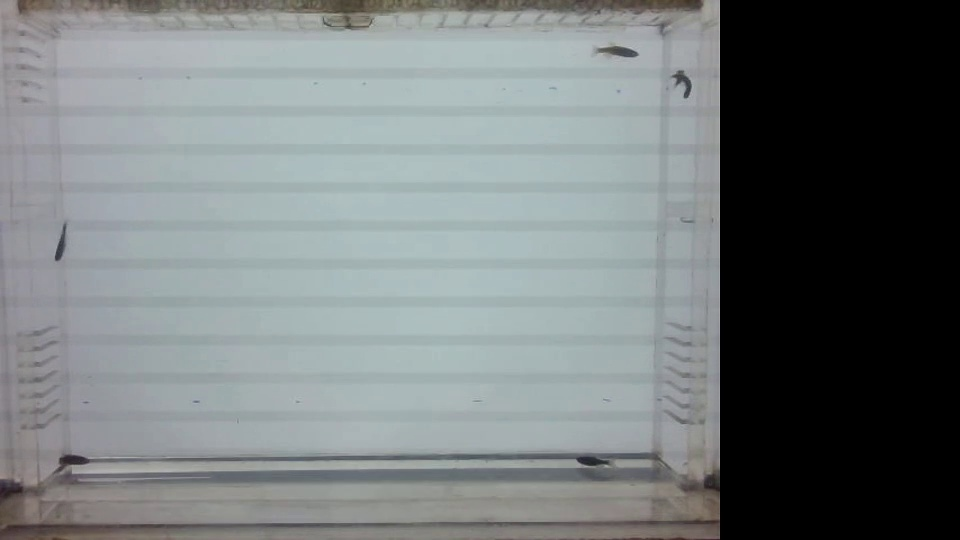fish: (589, 32, 644, 62), (50, 440, 93, 476), (45, 208, 72, 264), (573, 441, 610, 476), (660, 68, 696, 100), (668, 65, 684, 92)
